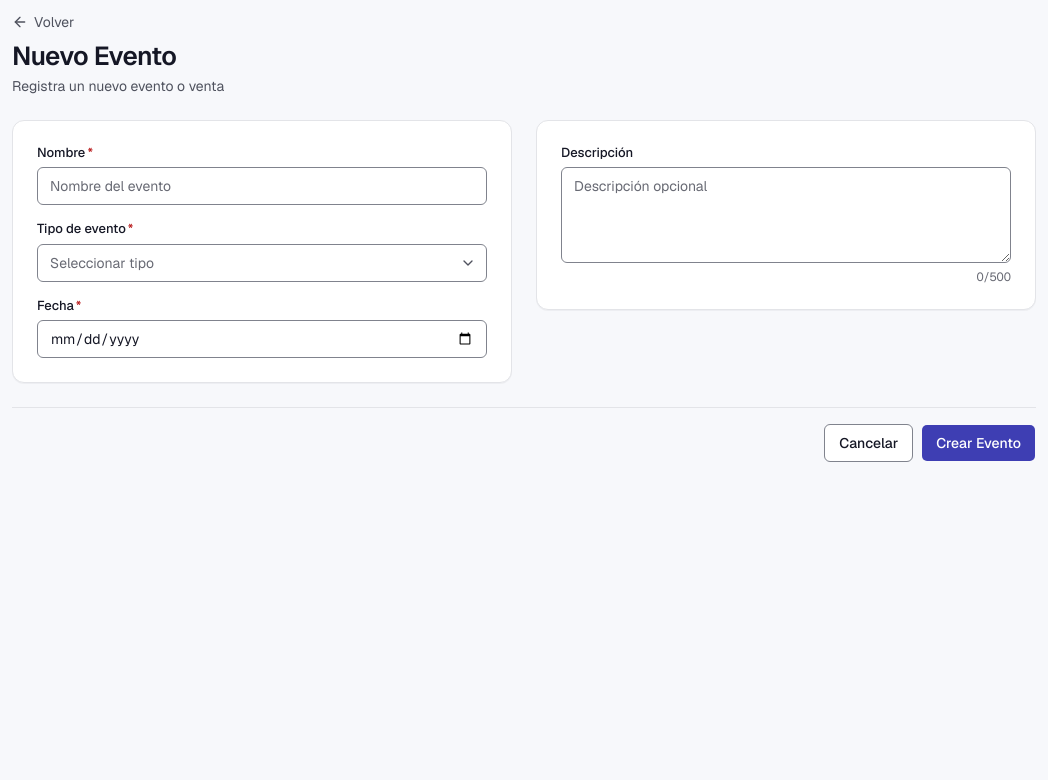
Test: EventoCreateView › valida requeridos y crea el evento
This screenshot has width=1048, height=780.
What coordinates should you click on to do the following:
click the button "Crear Evento"
I would click on:
 (979, 443)
Its box is [921,424,1036,462].
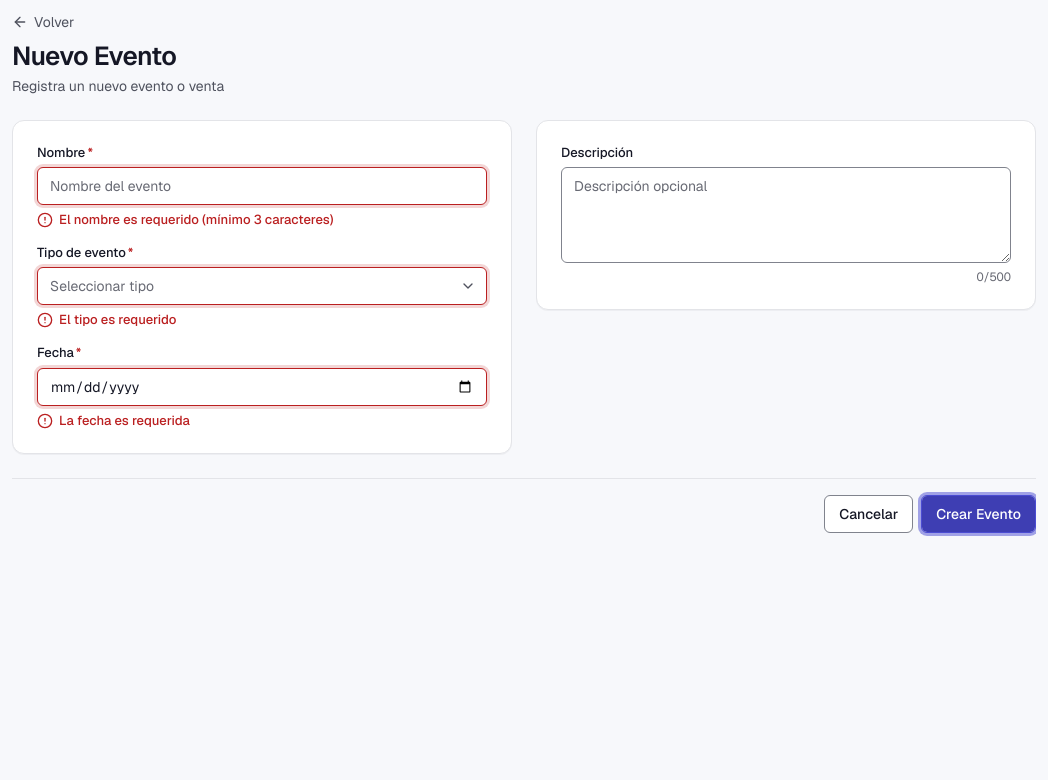
Expected: the text "El nombre es requerido (mínimo 3 caracteres)" is shown, [59,211,334,229]
